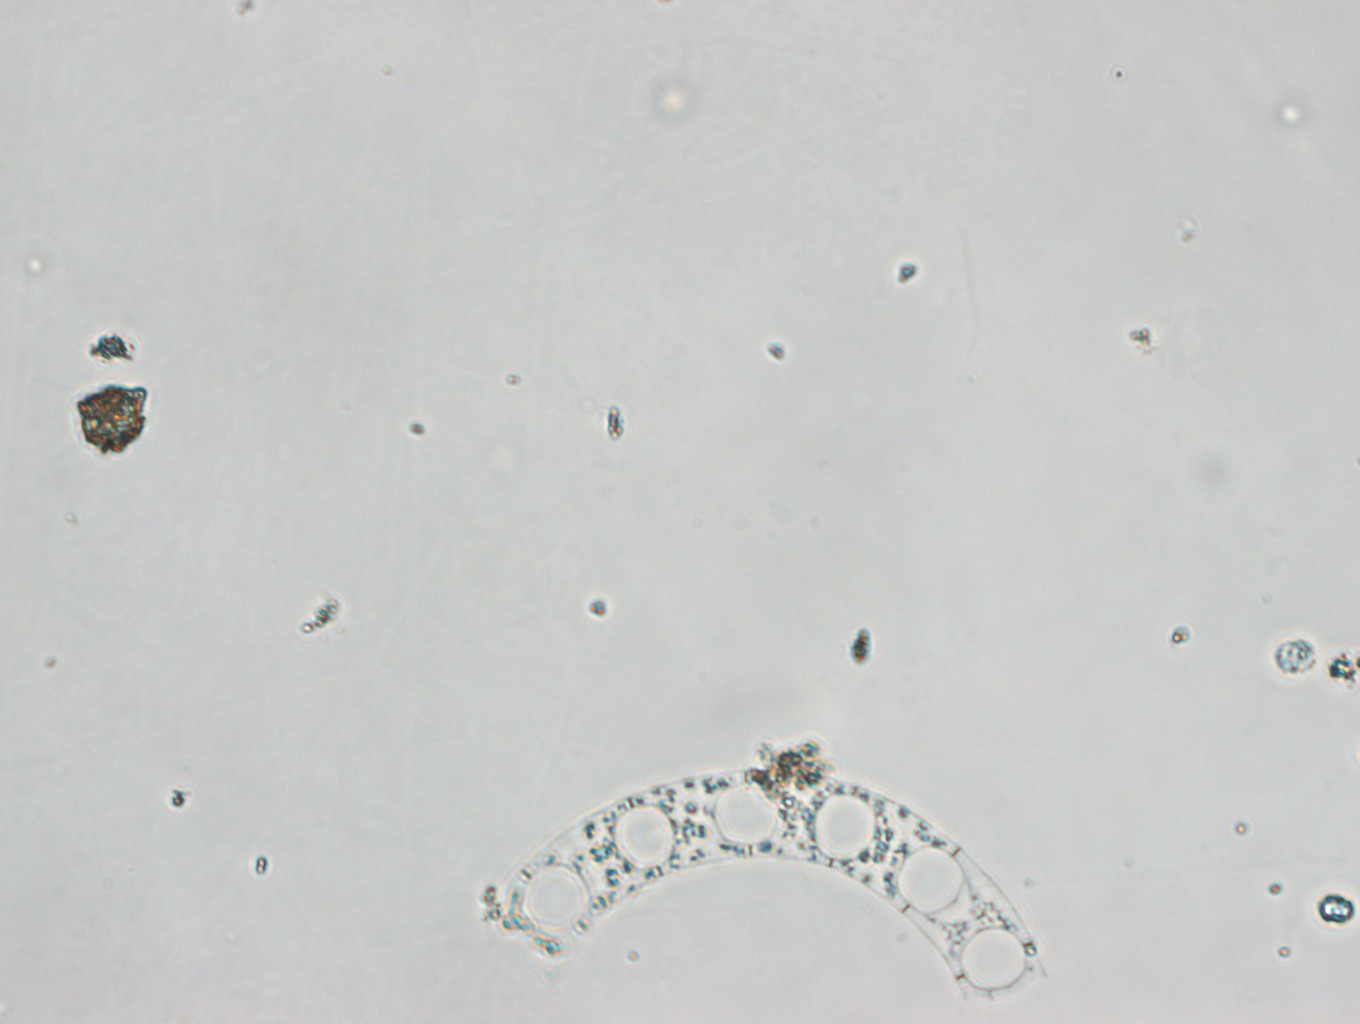eucampia: (485, 765, 1054, 1014)
